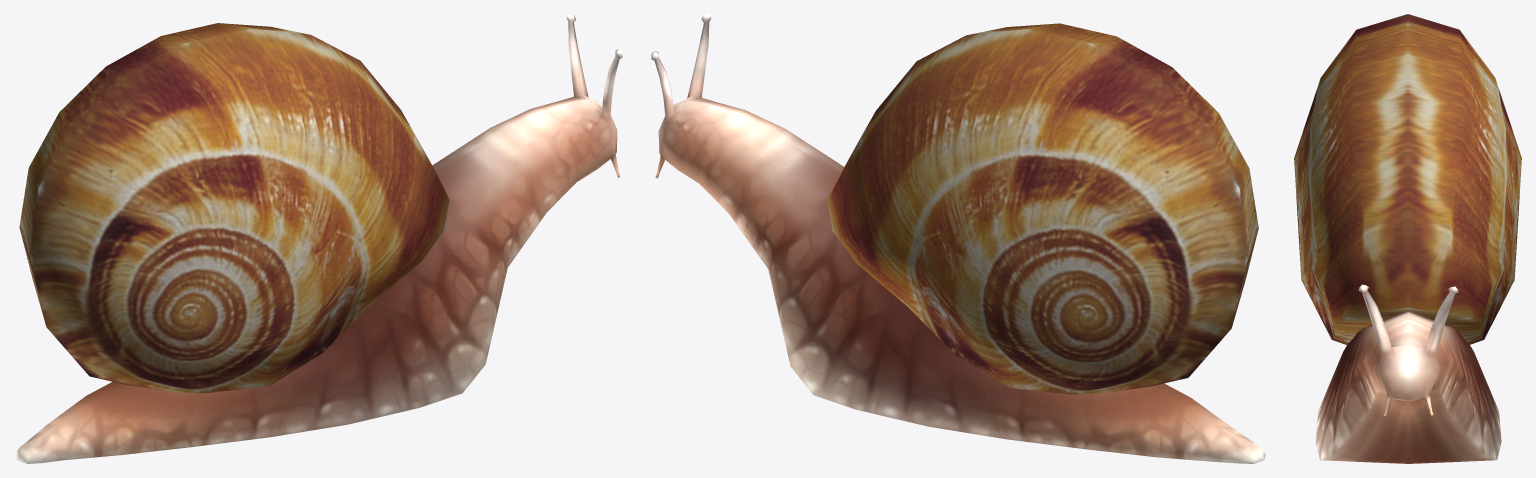
File: Snail.glb
The picture shows the model from 3 angles, left to right: view 1: azimuth 30°, elevation 25°; view 2: azimuth 150°, elevation 25°; view 3: azimuth 270°, elevation 25°; orthographic projection. The views are drawn at different scales.
Visible parts, largest first — view 1: Snail; view 2: Snail; view 3: Snail.
Boxes of the visible parts, left/top/right/bottom form: Snail: left=14, top=14, right=622, bottom=463; Snail: left=651, top=14, right=1265, bottom=463; Snail: left=1294, top=14, right=1521, bottom=463.
Size of the model in its own units: 0.2769 by 0.1664 by 0.1012.
Materials: 2 (2 with a texture image).
